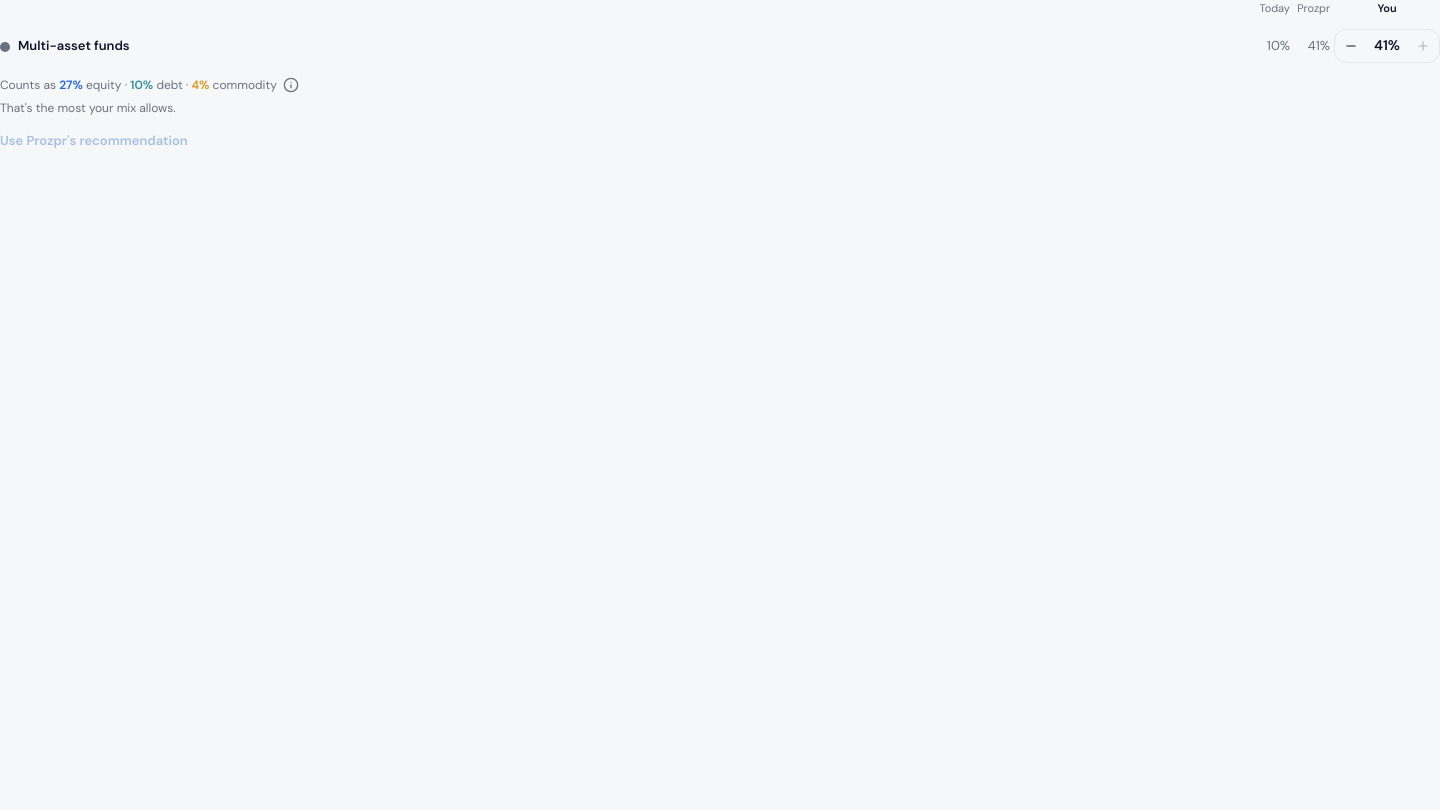
MultiAssetPanel › says so on the page at the limit, with the full reason behind the ⓘ
The width and height of the screenshot is (1440, 810).
expect the button named "Increase Multi-asset funds" is disabled: met, box [1407,30,1439,62]
expect the text "That's the most your mix allows." is shown: met, box [0,100,176,116]
Click the button named "About multi-asset funds". click: click(291, 84)
box: [281,74,301,94]
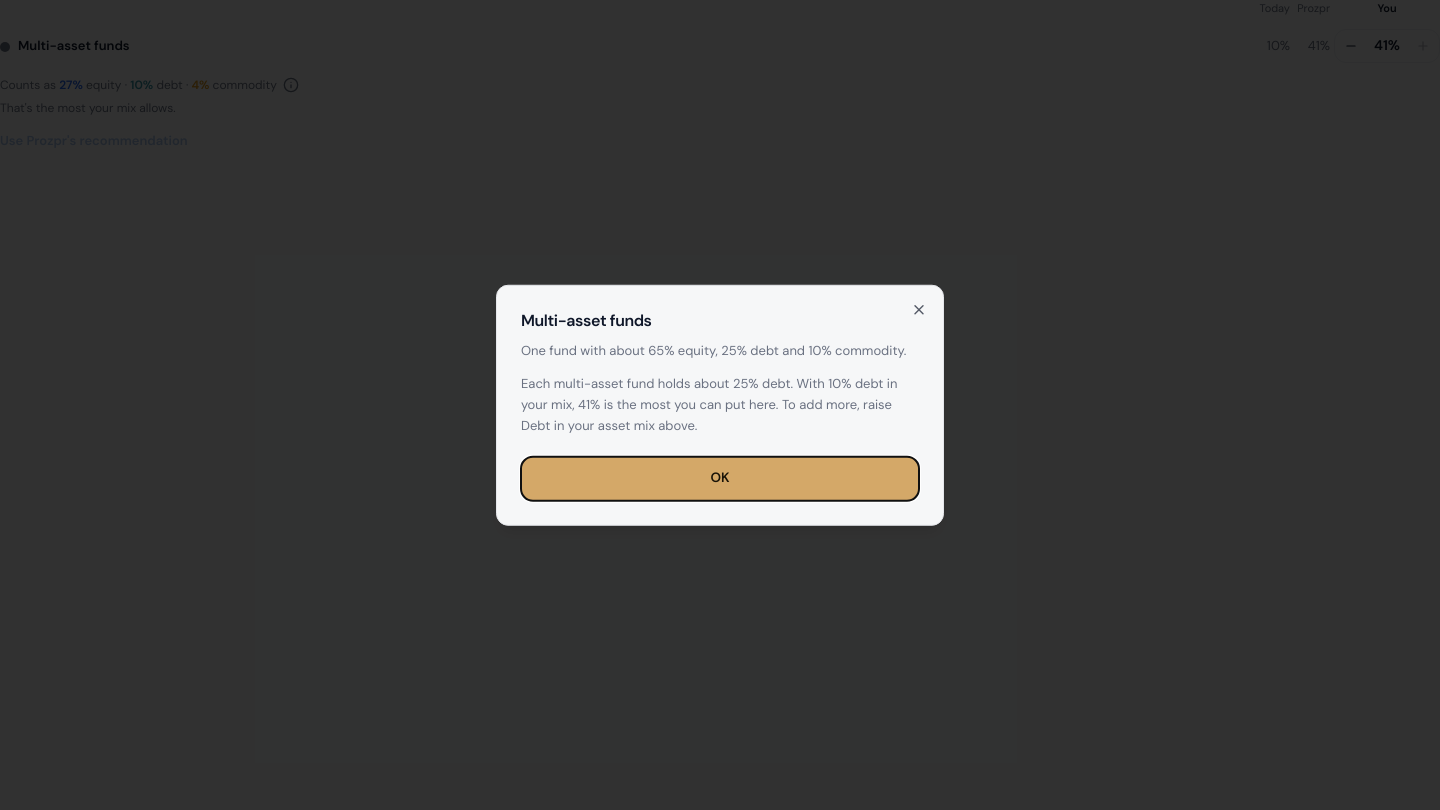
expect the dialog "Multi-asset funds" shows "Each multi-asset fund holds about 25% debt. With 10% debt in your mix, 41% is the most you can put here. To add more, raise Debt in your asset mix above.": met, box [521,375,897,434]
